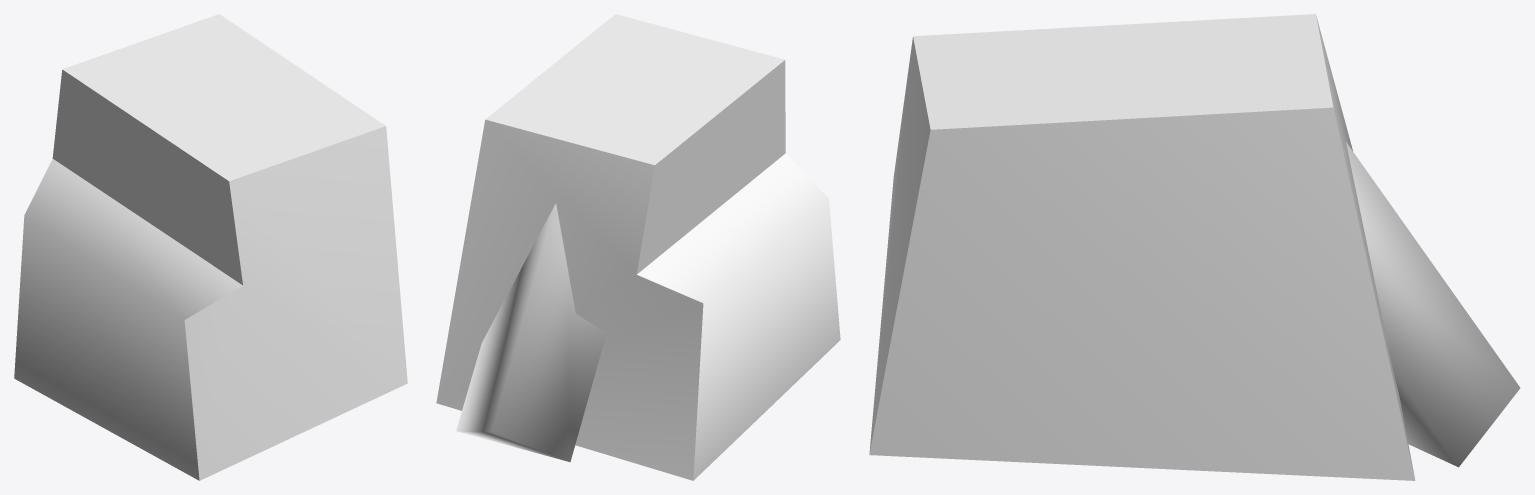
File: HandRight.obj
3 views of the same model, side by side, from view 1: azimuth 30°, elevation 25°; view 2: azimuth 150°, elevation 25°; view 3: azimuth 270°, elevation 25° (orthographic). The views are drawn at different scales.
Bounding box in the file's own units: 0.7727 × 1.02 × 1.43.
1 material, 1 textured.
